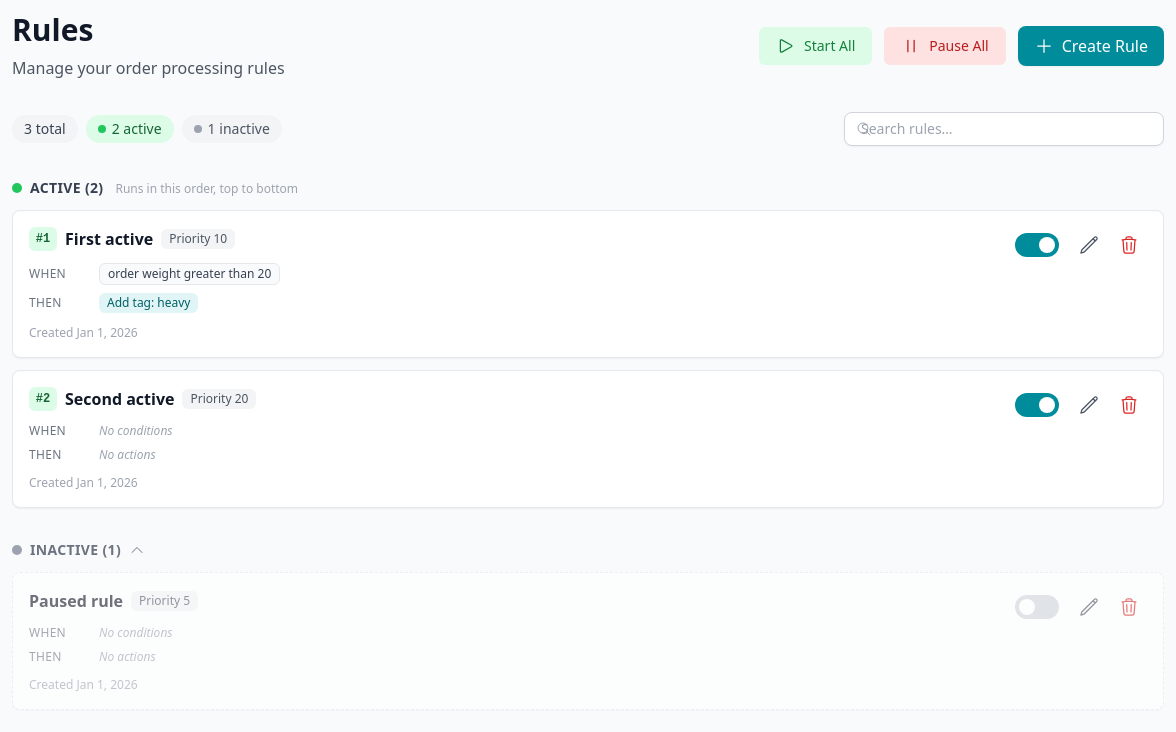
Rules page › filters both sections by search and offers to clear when nothing matches
Check: the heading "Active (2)" is shown, box [12,178,104,198]
Type "heavy" into the search field labelled "Search rules" at [1004, 129], box [844,112,1164,146]
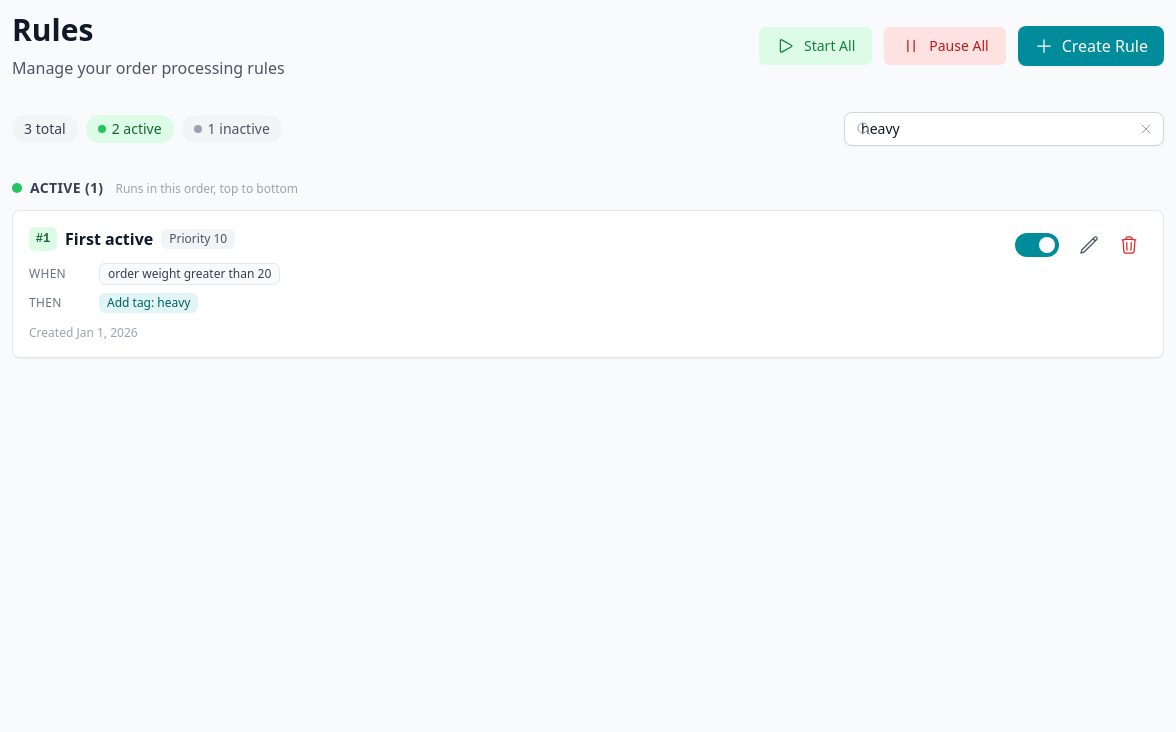
Check: the heading "Active (1)" is shown, box [12,178,104,198]
Check: the heading "Second active" is gone
Check: the button "Inactive (1)" is gone
Replace the text in the search field named "Search rules" with "nope" at [1004, 129], box [844,112,1164,146]
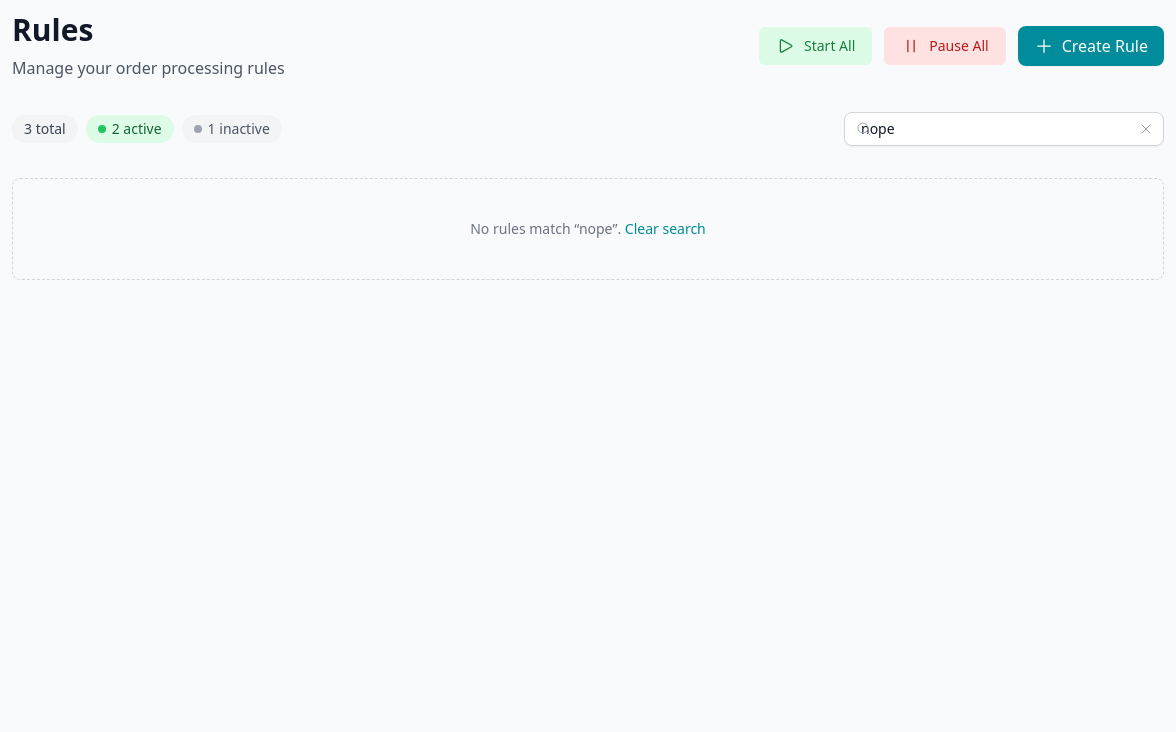
Check: the text "No rules match “nope”. Clear search" is shown, box [12,178,1164,280]
Click the button "Clear search" at [665, 229], box [625,219,706,239]
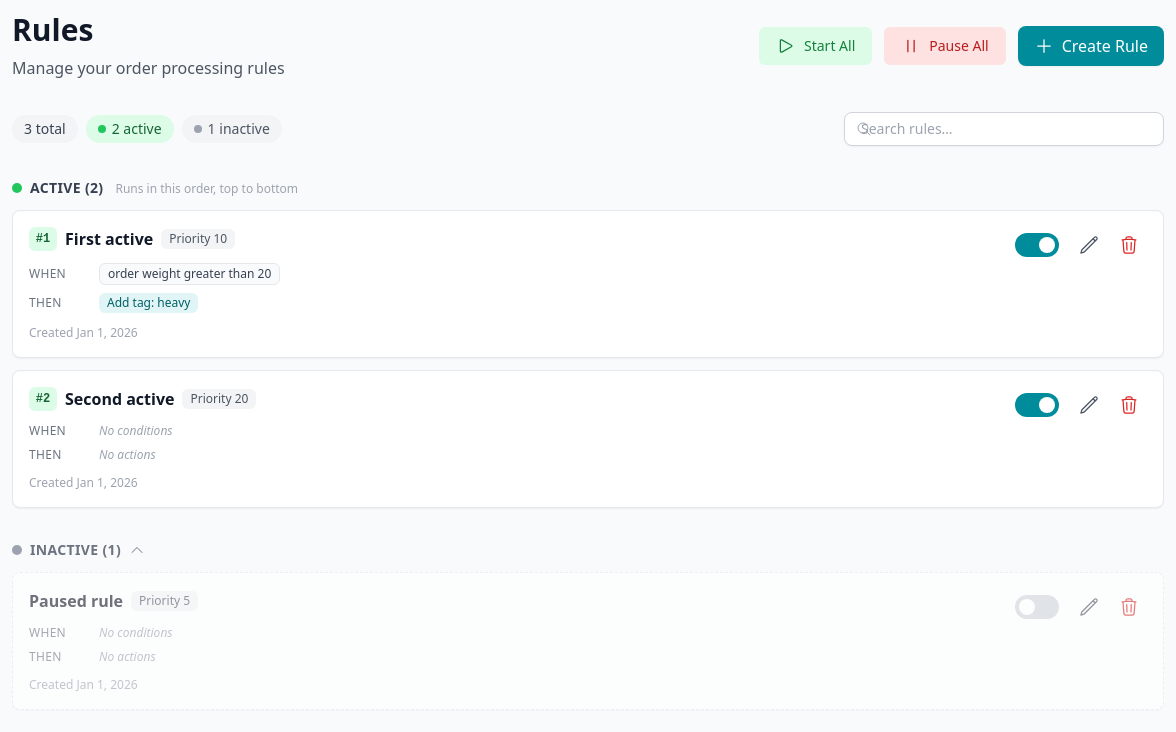
Check: the heading "Active (2)" is shown, box [12,178,104,198]
